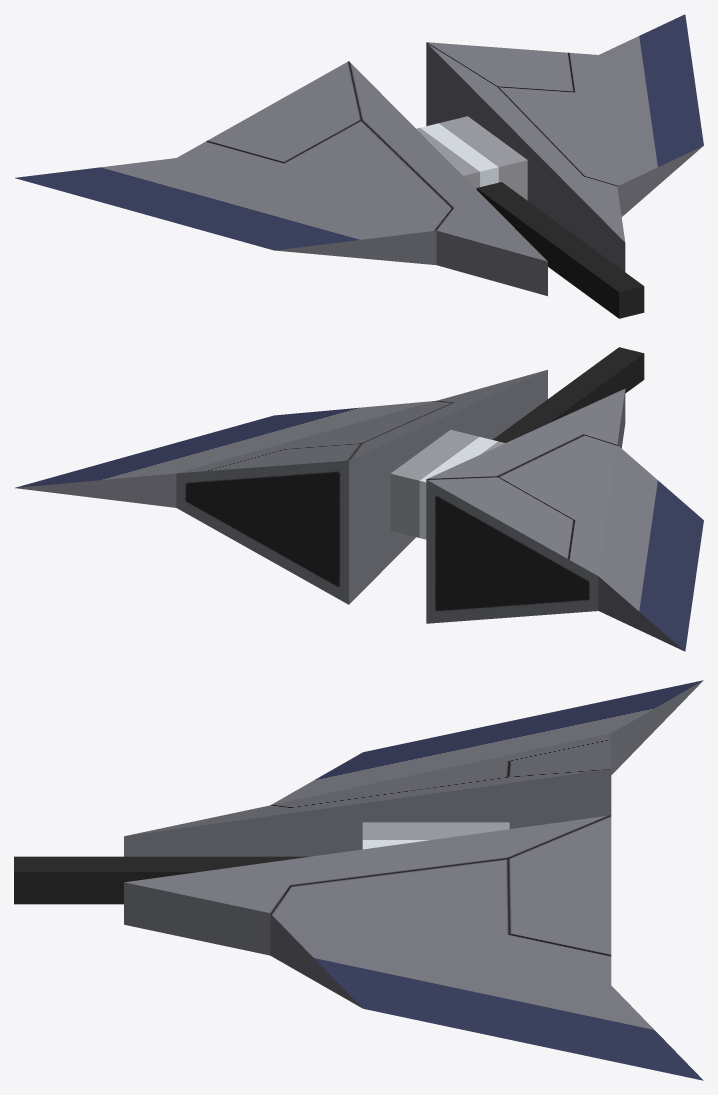
Rendered from Bit.obj.
3 renders of one model, top to bottom at view 1: azimuth 30°, elevation 25°; view 2: azimuth 150°, elevation 25°; view 3: azimuth 270°, elevation 25°, orthographic. The views are drawn at different scales.
Parts seen in each view (by area): view 1: Bit_Cube.003; view 2: Bit_Cube.003; view 3: Bit_Cube.003.
Boxes of the visible parts, x1,y1,x2,y2 form: Bit_Cube.003: (15,14,703,318); Bit_Cube.003: (15,347,703,651); Bit_Cube.003: (14,680,703,1080).
Size of the model in its own units: 2.34 by 0.48 by 1.7.
Materials: 1 (1 with a texture image).
